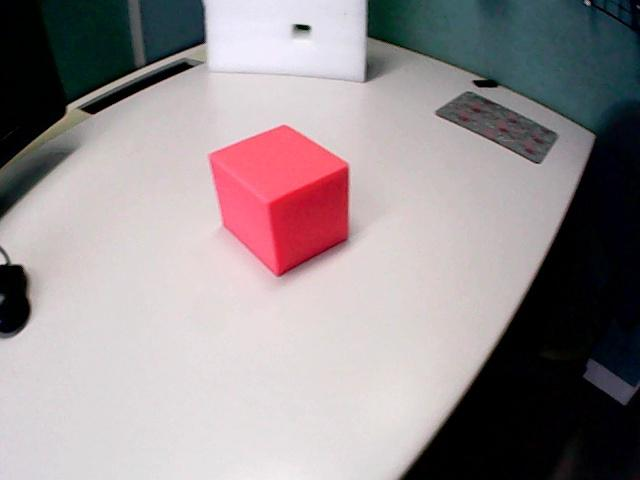red_block: (209, 126, 347, 274)
